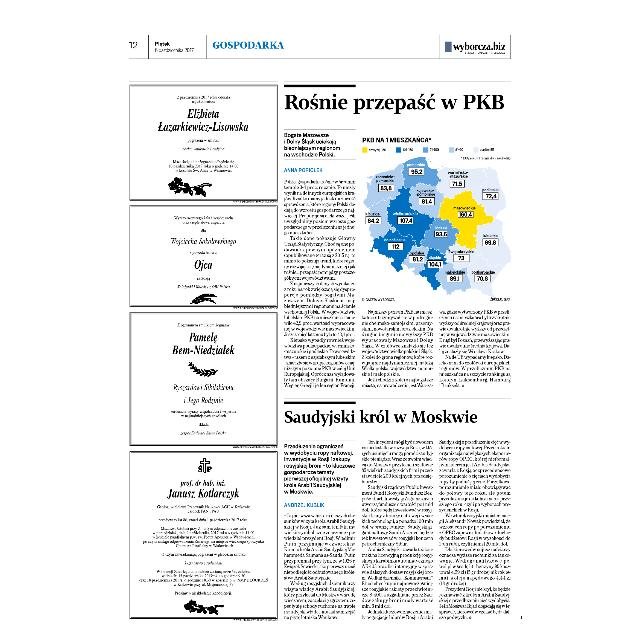article: (282, 84, 514, 390), (282, 400, 514, 622)
